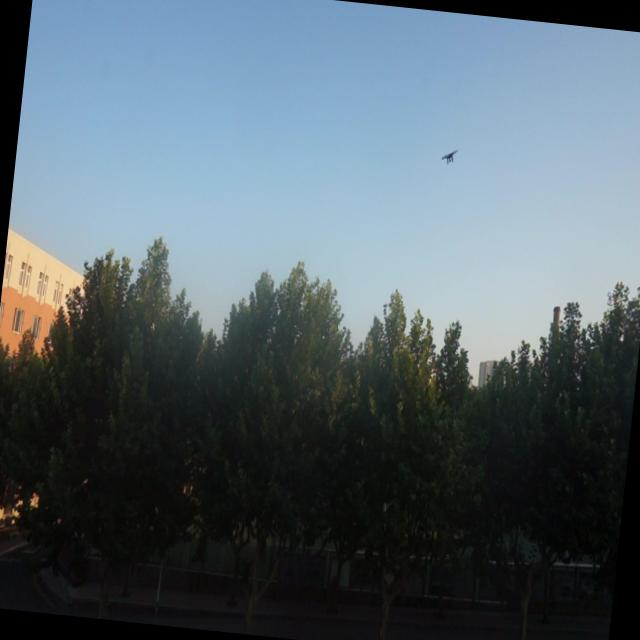drone: (439, 144, 459, 166)
